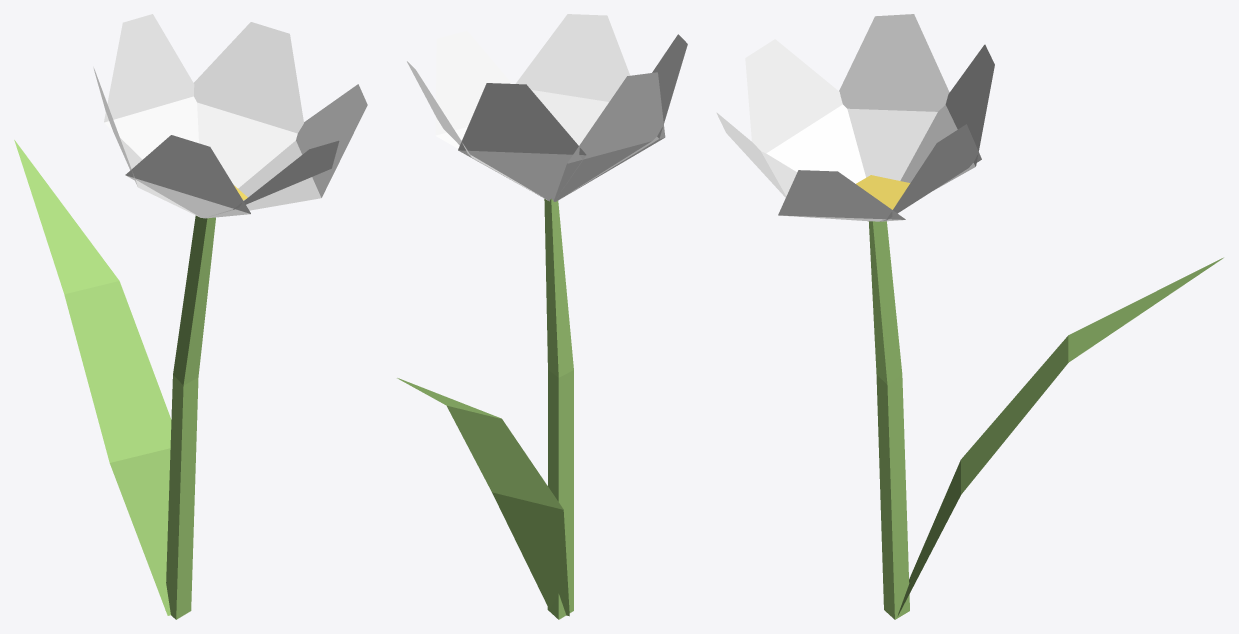
The model's file is Flower_e_TwoS_06.fbx.
3 views of the same model, side by side, from view 1: azimuth 30°, elevation 25°; view 2: azimuth 150°, elevation 25°; view 3: azimuth 270°, elevation 25° (orthographic).
Parts seen in each view (by area): view 1: Flower_e_TwoS_06; view 2: Flower_e_TwoS_06; view 3: Flower_e_TwoS_06.
Boxes of the visible parts, x1,y1,x2,y2 form: Flower_e_TwoS_06: [14, 14, 367, 619]; Flower_e_TwoS_06: [397, 14, 687, 619]; Flower_e_TwoS_06: [716, 14, 1223, 619].
Bounding box in the file's own units: 14.67 × 32.96 × 26.91.
